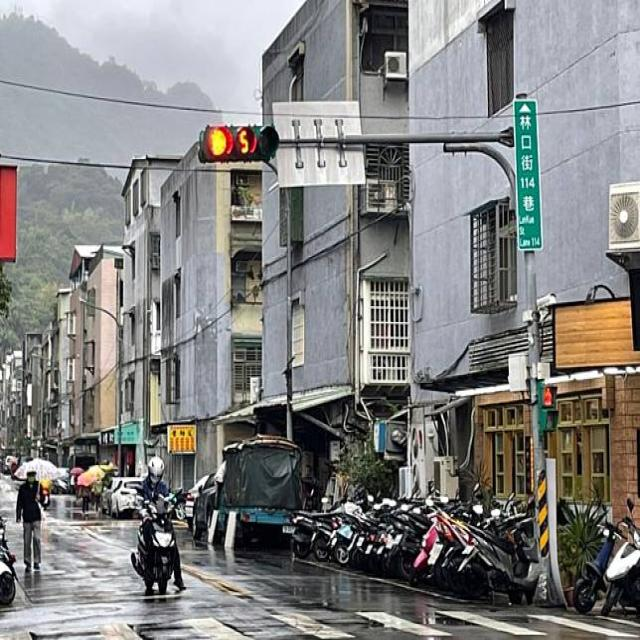red light: (199, 122, 280, 163)
